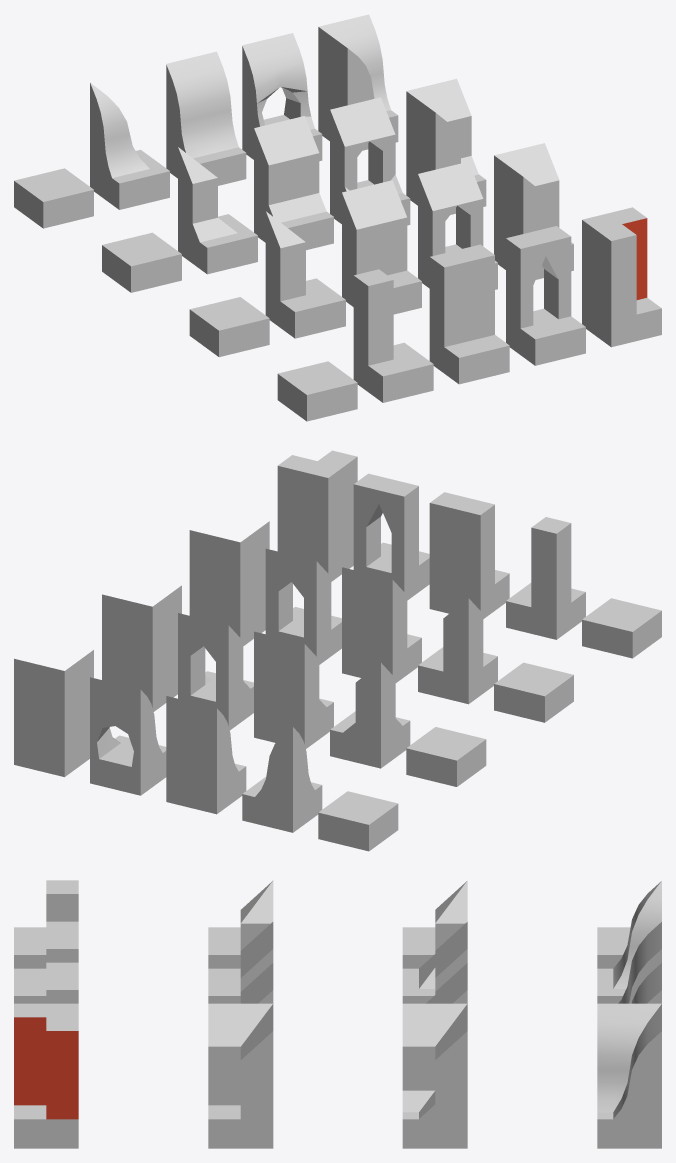
The model's file is ModularEnvironment.fbx.
3 views of the same model, one above another, from view 1: azimuth 30°, elevation 25°; view 2: azimuth 150°, elevation 25°; view 3: azimuth 270°, elevation 25° (orthographic). The views are drawn at different scales.
Parts seen in each view (by area): view 1: Cube.001, Cube.004, Cube.002, Cube.016, Cube.011, Cube.006, Cube, Cube.005, Cube.014, Cube.019, Cube.010, Cube.015 (+8 smaller); view 2: Cube.004, Cube.019, Cube.001, Cube.016, Cube.009, Cube.014, Cube.017, Cube.011, Cube.002, Cube.006, Cube, Cube.007 (+8 smaller); view 3: Cube.009, Cube.014, Cube.004, Cube.019, Cube.010, Cube.015, Cube.005, Cube, Cube.016, Cube.011, Cube.006, Cube.001 (+8 smaller).
Boxes of the visible parts, x1,y1,x2,y2 form: Cube.001: [429, 244, 509, 384]; Cube.004: [582, 207, 661, 347]; Cube.002: [506, 226, 585, 365]; Cube.016: [166, 51, 246, 185]; Cube.011: [254, 116, 333, 250]; Cube.006: [342, 180, 421, 314]; Cube: [353, 269, 433, 402]; Cube.005: [265, 211, 345, 338]; Cube.014: [406, 78, 486, 214]; Cube.019: [318, 14, 398, 150]; Cube.010: [178, 147, 257, 274]; Cube.015: [90, 82, 169, 209]; Cube.004: [277, 450, 357, 581]; Cube.019: [14, 650, 93, 777]; Cube.001: [429, 492, 509, 618]; Cube.016: [166, 696, 246, 814]; Cube.009: [189, 521, 269, 645]; Cube.014: [102, 585, 181, 711]; Cube.017: [90, 677, 166, 795]; Cube.011: [254, 631, 333, 748]; Cube.002: [353, 473, 429, 600]; Cube.006: [342, 567, 421, 682]; Cube: [506, 517, 585, 639]; Cube.007: [265, 548, 341, 664]; Cube.009: [208, 1003, 273, 1148]; Cube.014: [402, 1003, 467, 1148]; Cube.004: [14, 1003, 78, 1148]; Cube.019: [597, 1003, 661, 1148]; Cube.010: [402, 881, 467, 1003]; Cube.015: [597, 881, 661, 1003]; Cube.005: [208, 880, 273, 1003]; Cube: [14, 880, 78, 1003]; Cube.016: [618, 922, 661, 1003]; Cube.011: [426, 922, 467, 1003]; Cube.006: [240, 922, 273, 991]; Cube.001: [46, 921, 78, 962].
Bounding box in the file's own units: 1400 × 400 × 2000.
